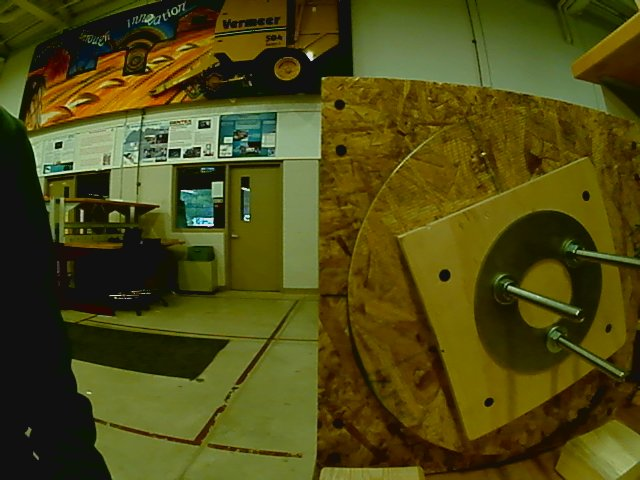bolt: (560, 235, 591, 271), (491, 271, 519, 309), (543, 322, 573, 355)
